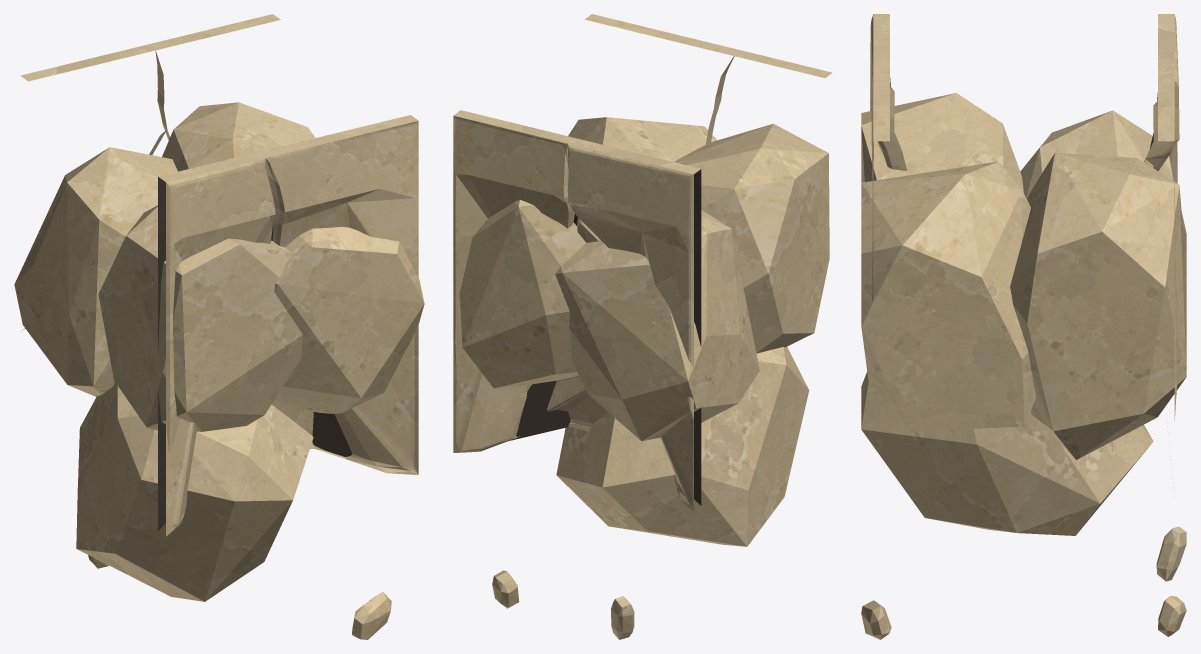
File: ground_bottom_square_strip_03.glb
The picture shows the model from 3 angles, left to right: view 1: azimuth 30°, elevation 25°; view 2: azimuth 150°, elevation 25°; view 3: azimuth 270°, elevation 25°; orthographic projection. The views are drawn at different scales.
Parts seen in each view (by area): view 1: GroundBottomSquareStrip03_Body; view 2: GroundBottomSquareStrip03_Body; view 3: GroundBottomSquareStrip03_Body.
Boxes of the visible parts, x1=… form: GroundBottomSquareStrip03_Body: x1=14, y1=14, x2=424, y2=639; GroundBottomSquareStrip03_Body: x1=453, y1=14, x2=832, y2=639; GroundBottomSquareStrip03_Body: x1=861, y1=14, x2=1186, y2=639.
Size of the model in its own units: 1 by 1.93 by 1.08.
Materials: 8 (7 with a texture image).
